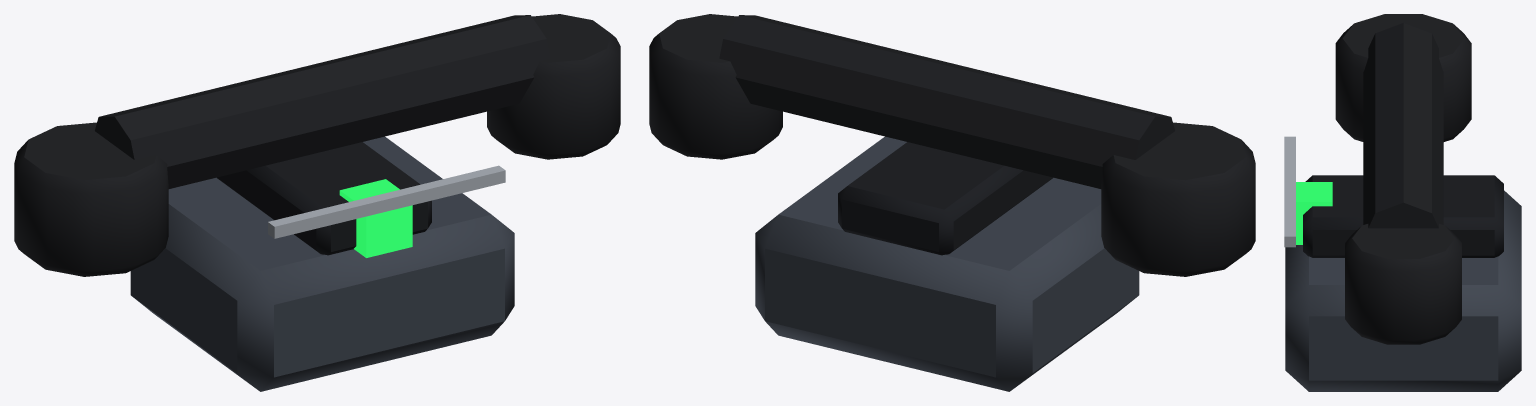
Rendered from terminal_comm_handset.glb.
The picture shows the model from 3 angles, left to right: view 1: azimuth 30°, elevation 25°; view 2: azimuth 150°, elevation 25°; view 3: azimuth 270°, elevation 25°; orthographic projection. The views are drawn at different scales.
Parts seen in each view (by area): view 1: terminal_comm_handset; view 2: terminal_comm_handset; view 3: terminal_comm_handset.
Boxes of the visible parts, bbox=[...] form: terminal_comm_handset: bbox=[14, 14, 620, 391]; terminal_comm_handset: bbox=[649, 14, 1255, 391]; terminal_comm_handset: bbox=[1284, 14, 1521, 391].
Bounding box in the file's own units: 0.2533 × 0.107 × 0.1005.
